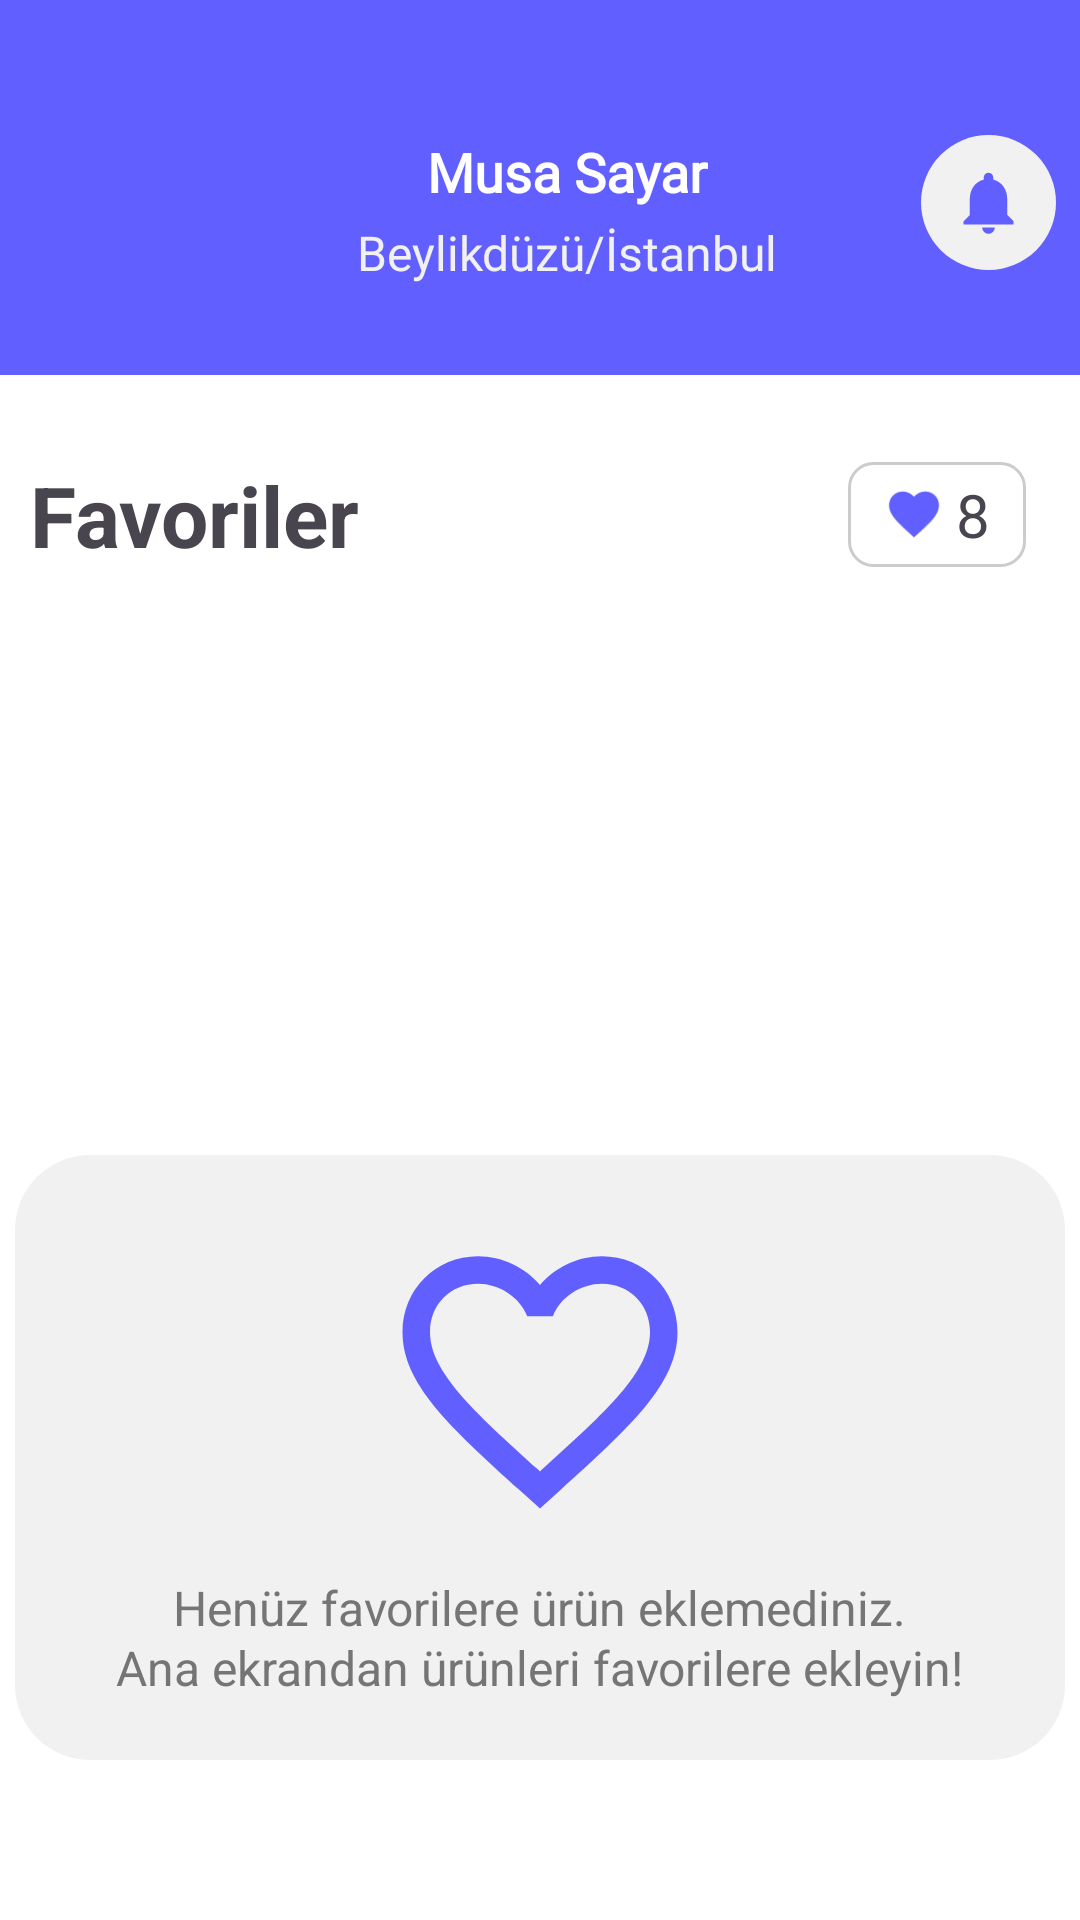

Screen size 1080px x 1920px. Icon name, then its box in pixels as (x1, y1, x2, y2):
favorite: (889, 491, 939, 537)
notification: (921, 135, 1056, 270)
